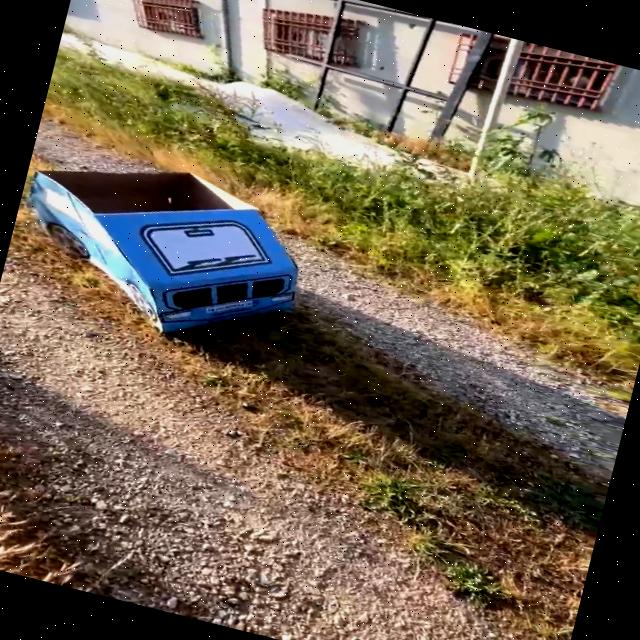blue_car: (0, 112, 389, 410)
